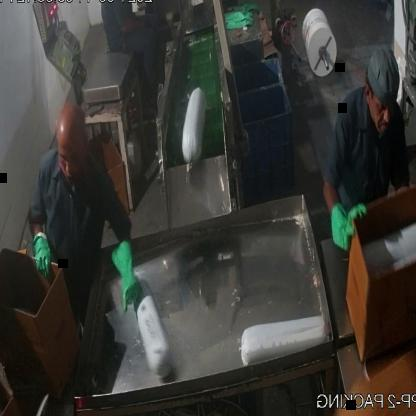glove: (326, 190, 363, 268), (113, 228, 142, 317), (21, 228, 57, 290)
